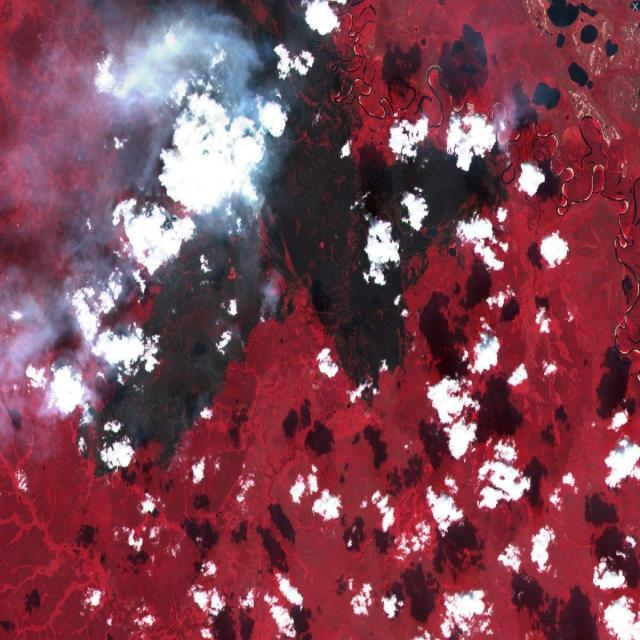fire: (72, 154, 282, 484)
